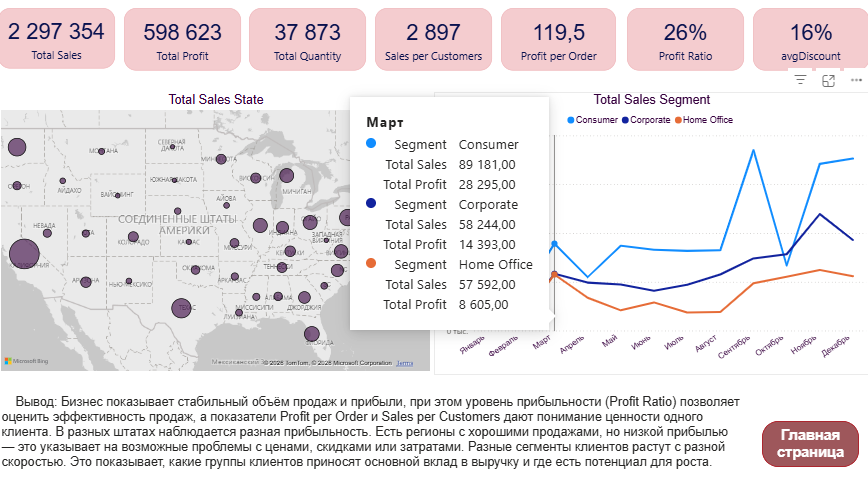

What the dashboard file says about the page in this screenshot:
{"tool":"powerbi","page":{"name":"KPI Бизнеса","canvas":[1280,720],"ordinal":1},"visuals":[{"type":"card","fields":{"Values":["Sample.Total Sales"]},"box":[0,27.5,172,89.5],"z":0},{"type":"card","fields":{"Values":["Sample.Total Profit"]},"box":[184.4,27.5,172,92.2],"z":1000},{"type":"card","fields":{"Values":["Sample.Profit Ratio"]},"box":[923.5,27.5,172,92.2],"z":2000},{"type":"card","fields":{"Values":["Sample.Total Quantity"]},"box":[368.9,27.5,172,92.2],"z":3000},{"type":"card","fields":{"Values":["Sample.Profit per Order"]},"box":[739.1,27.5,169.3,92.2],"z":4000},{"type":"card","fields":{"Values":["Sample.Sales per Customers"]},"box":[553.3,27.5,172,92.2],"z":5000},{"type":"card","fields":{"Values":["Sample.avgDiscount"]},"box":[1109.3,27.5,170.7,92.2],"z":6000},{"type":"map","title":"Total Sales State","fields":{"Category":["Sample.State"],"Size":["Sample.Total Sales"]},"box":[0,151.9,640.1,415],"z":7000},{"type":"lineChart","title":"Total Sales Segment","fields":{"Y":["Sample.Total Sales"],"Category":["Sample.Order Date.Изменение.Иерархия дат.Месяц"],"Series":["Sample.Segment"]},"box":[640.1,151.9,640.1,415],"z":8000},{"type":"textbox","box":[0,590.7,1096.2,129.3],"z":9000},{"type":"actionButton","box":[1122.6,634.8,142.5,67.6],"z":10000}]}

Visuals, with their boxes in screenshot pixels (x1, y1, x2, y2), scaled from the page's 1280x720 canvas onto the 868x478 screenshot:
card - Sample.Total Sales: bbox(0, 18, 117, 78)
card - Sample.Total Profit: bbox(125, 18, 242, 79)
card - Sample.Profit Ratio: bbox(626, 18, 743, 79)
card - Sample.Total Quantity: bbox(250, 18, 367, 79)
card - Sample.Profit per Order: bbox(501, 18, 616, 79)
card - Sample.Sales per Customers: bbox(375, 18, 492, 79)
card - Sample.avgDiscount: bbox(752, 18, 867, 79)
"Total Sales State" map: bbox(0, 101, 434, 376)
"Total Sales Segment" lineChart: bbox(434, 101, 867, 376)
textbox: bbox(0, 392, 743, 477)
actionButton: bbox(761, 421, 858, 466)
